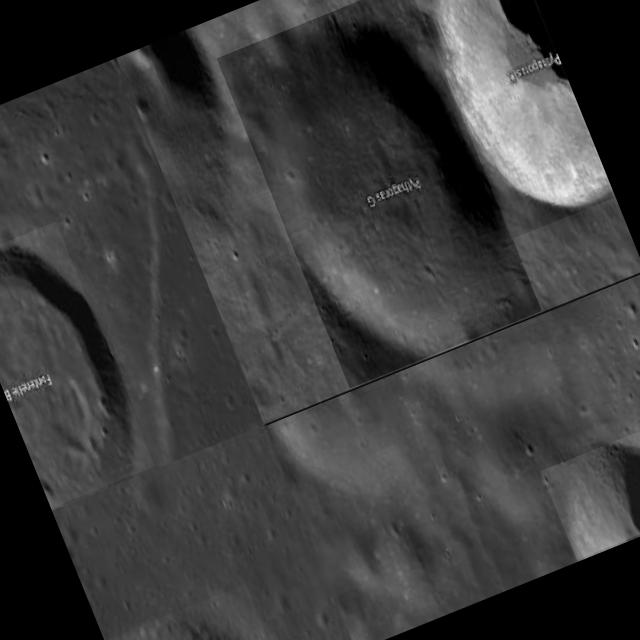crater: (216, 0, 541, 387), (397, 0, 613, 238), (0, 220, 154, 507), (540, 421, 640, 559), (104, 583, 283, 640)
